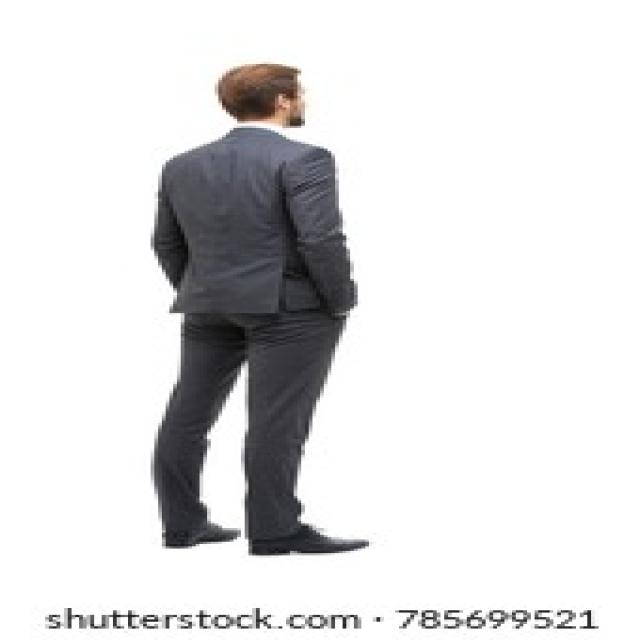standing: (146, 62, 393, 558)
